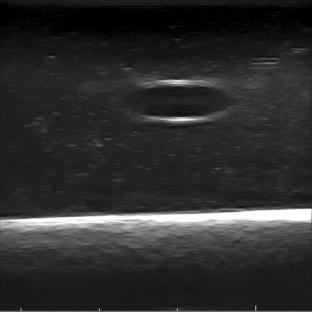vessel: (129, 79, 232, 123)
